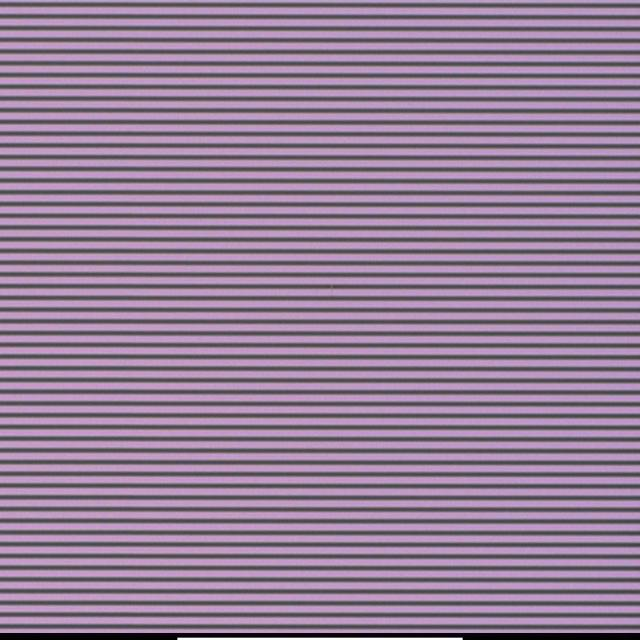03_intrusion: (328, 282, 336, 294)
